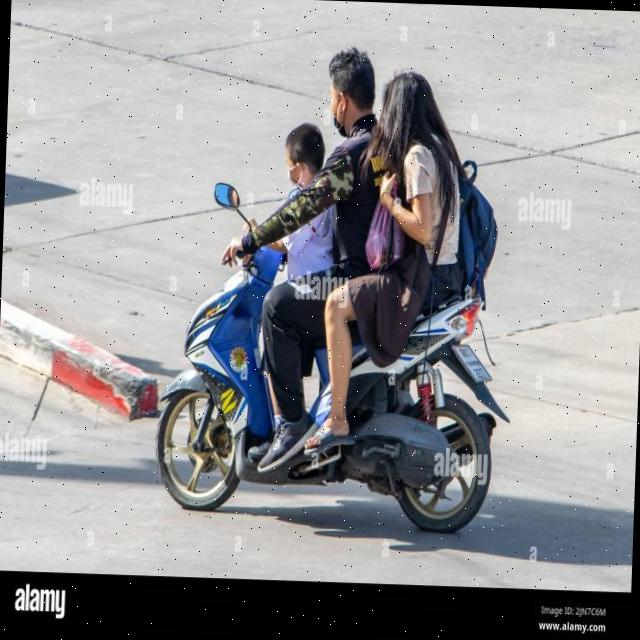No helmet: (317, 45, 394, 144)
Triple riding: (256, 57, 509, 314)
